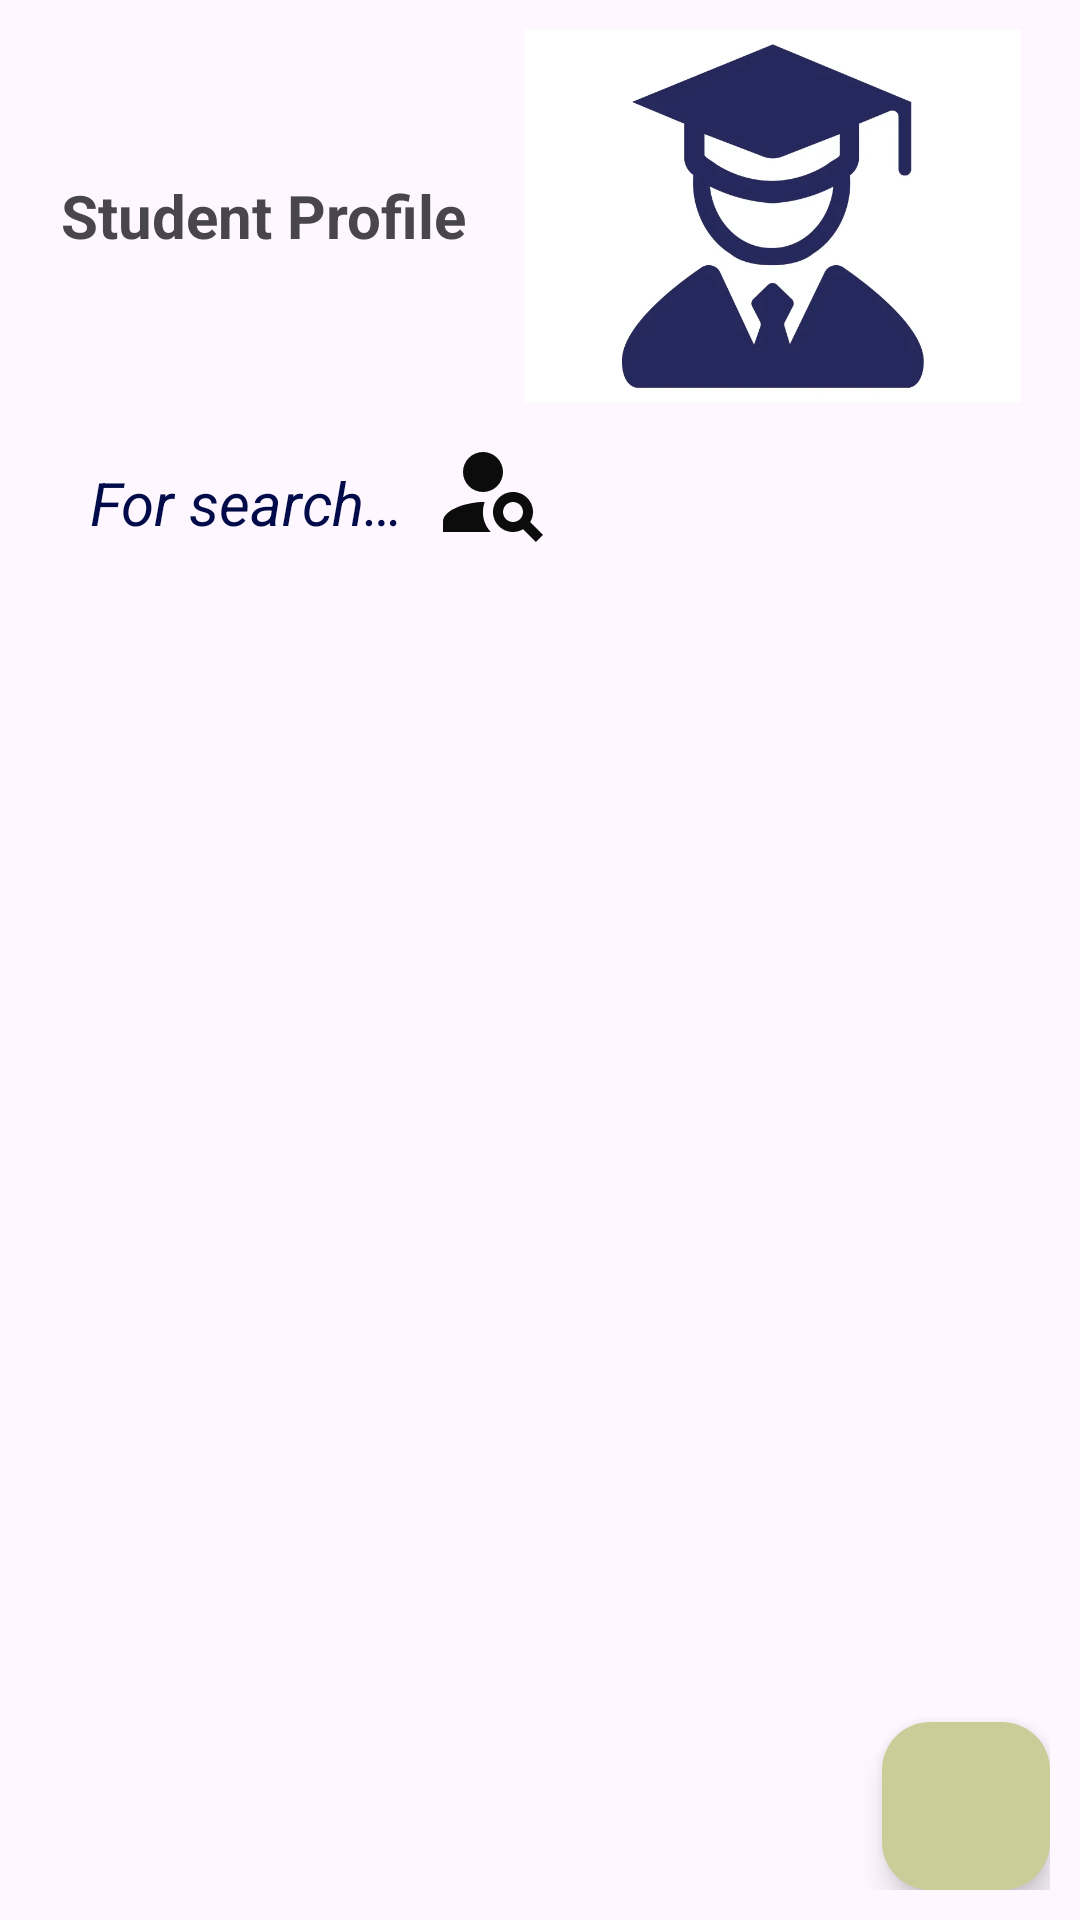

Point at icon controls on the screen. Image size 1080 x 1920, points as [x,y].
person search: [493,497]
